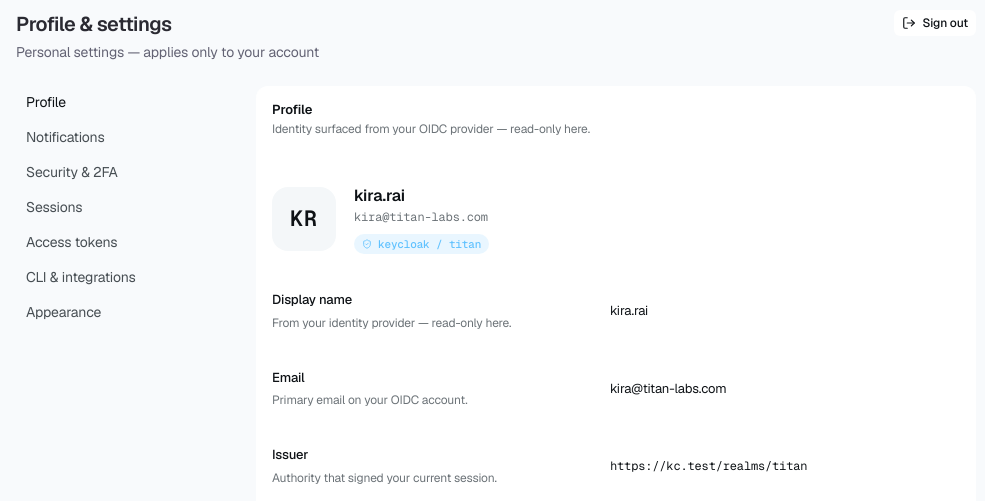
Test: Profile v3 — settings-grid + 7-section nav › sections without backend (notifications, sessions) show "Coming soon"
The image size is (985, 501).
Expected: the navigation bar with test id "settings-nav" is shown, x1=16 y1=86 x2=216 y2=329
Click the button with test id "nav-notifications" at (116, 138), box x1=16 y1=121 x2=216 y2=154
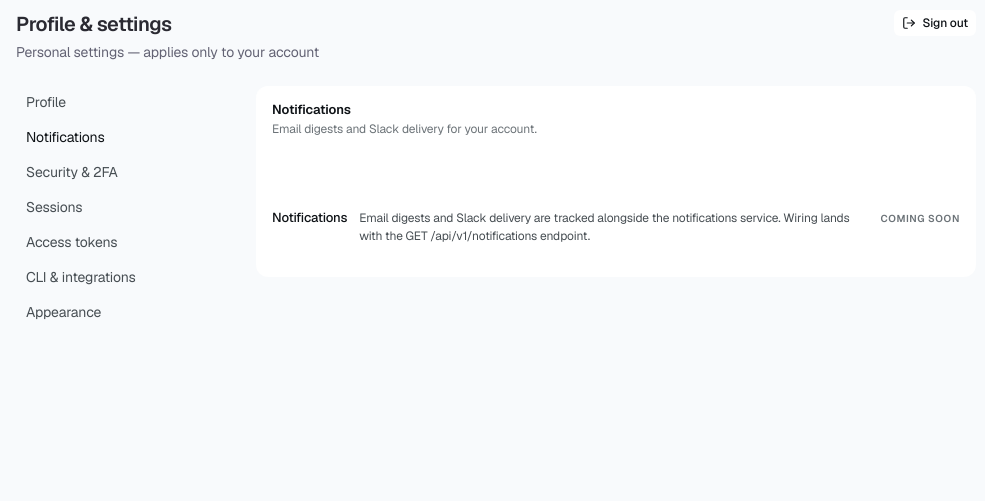
Now the element with test id "coming-soon" is shown, box x1=272 y1=208 x2=960 y2=244
Now the text "Notifications" is shown, box x1=272 y1=208 x2=347 y2=227
Now the text "coming soon" is shown, box x1=880 y1=210 x2=960 y2=226
Click the button with test id "nav-sessions" at (116, 208), box x1=16 y1=191 x2=216 y2=224
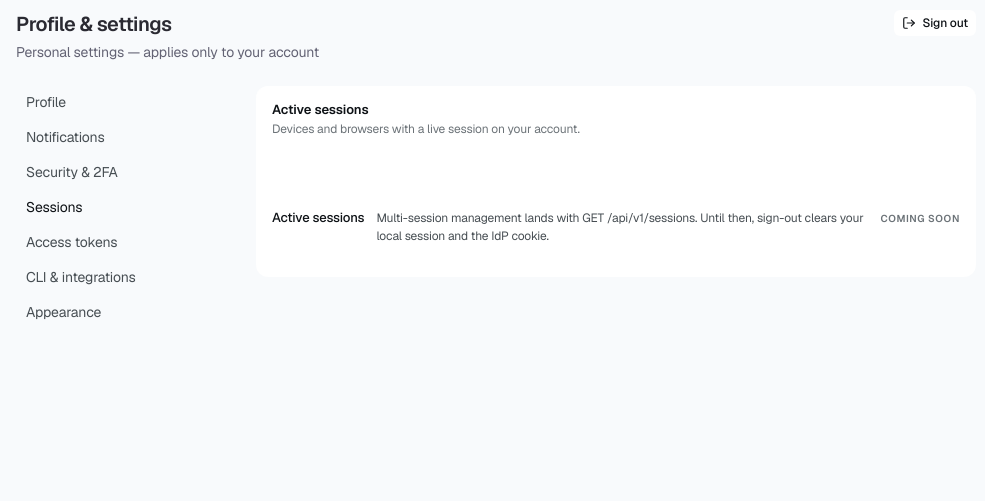
Now the element with test id "coming-soon" is shown, box x1=272 y1=208 x2=960 y2=244
Now the text "Active sessions" is shown, box x1=272 y1=208 x2=364 y2=227
